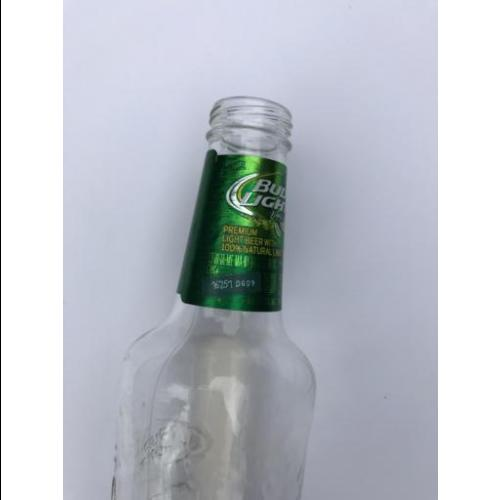glass: (120, 96, 315, 499)
